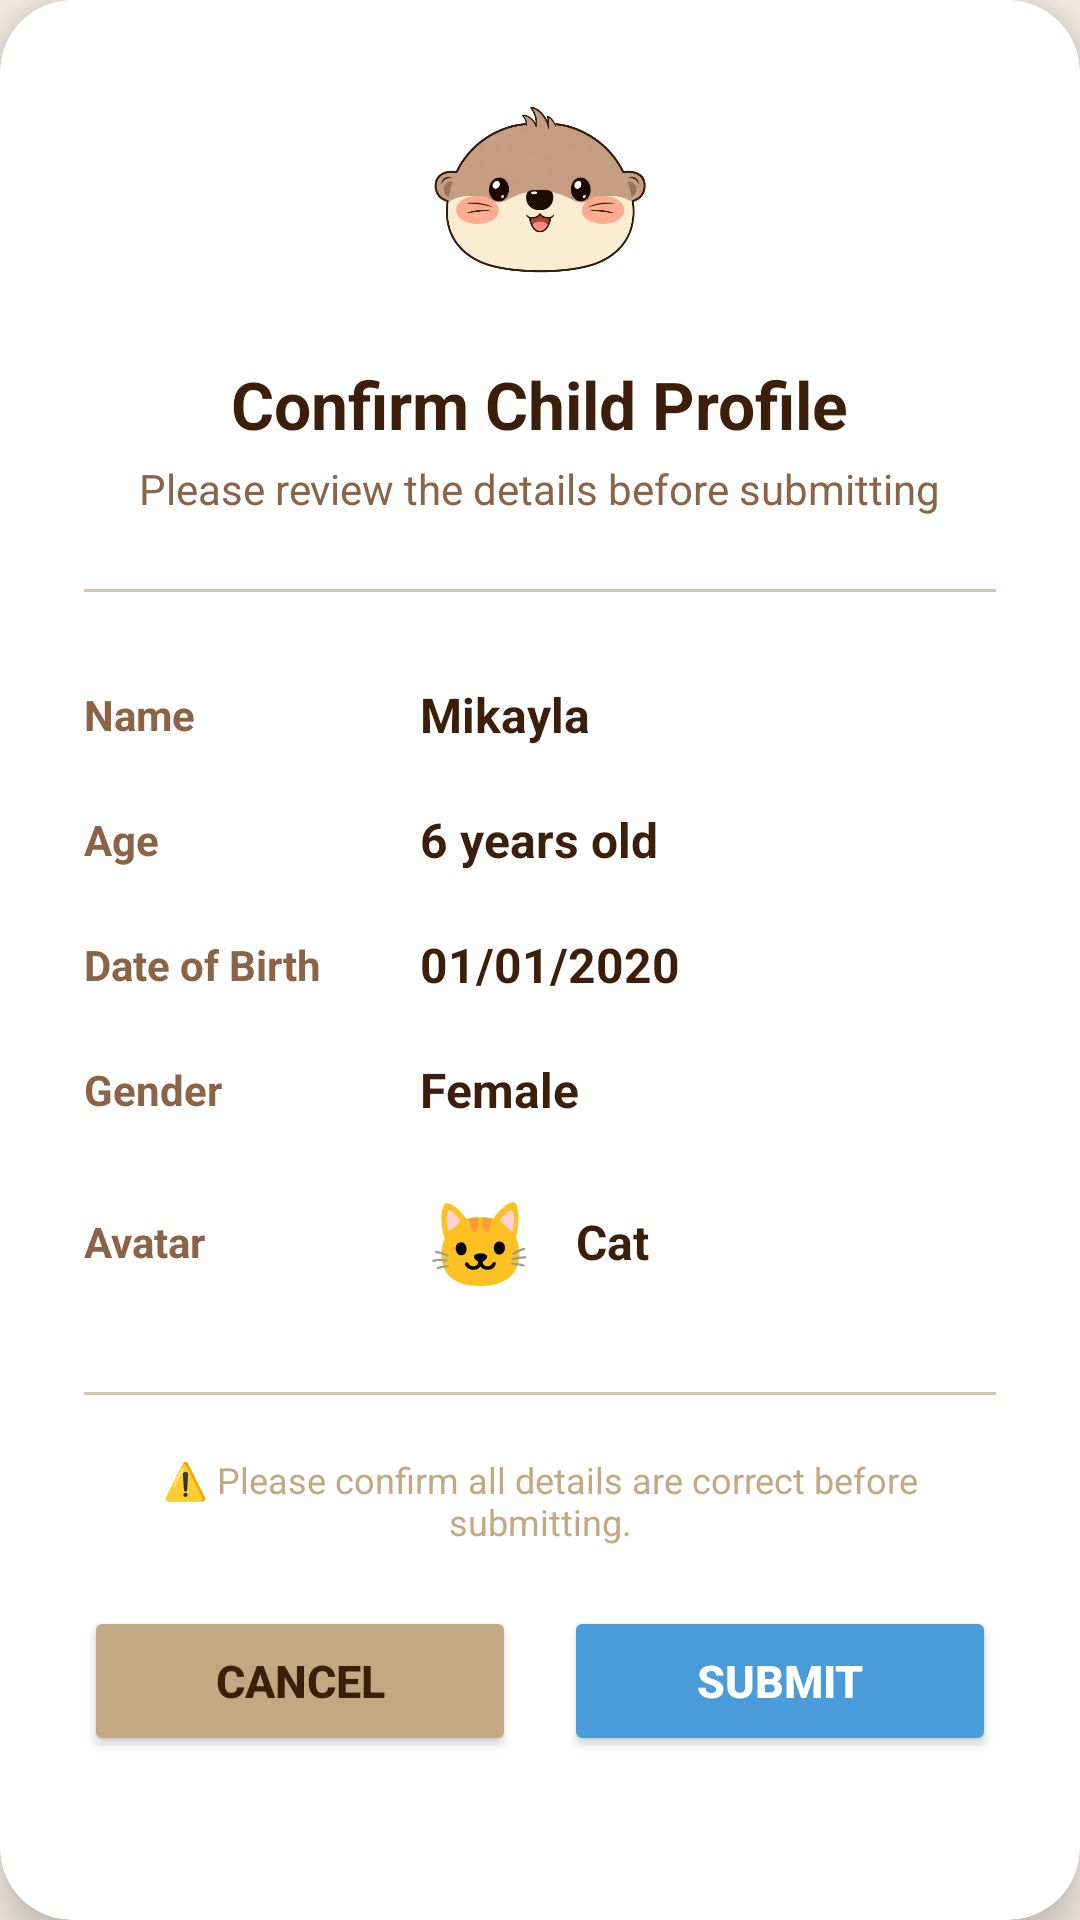

Point at icon controls on the screen. Image size 1080×1920, points as (x,y).
Otter Head: (540,189)
